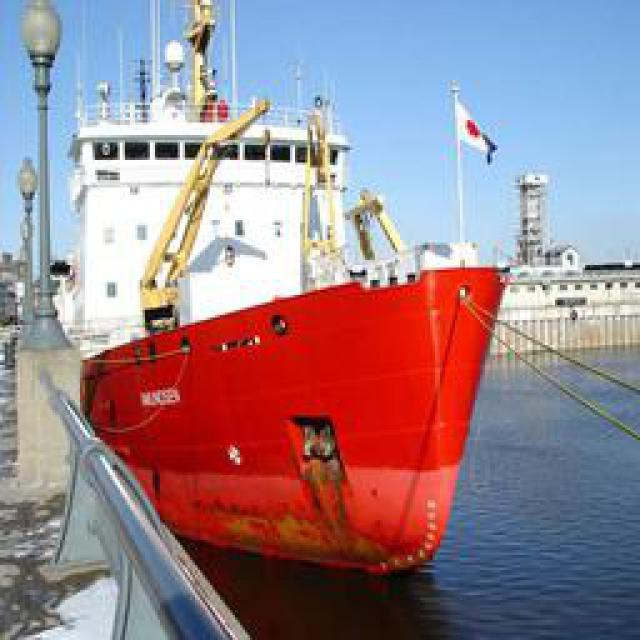Ship: (63, 51, 511, 594)
